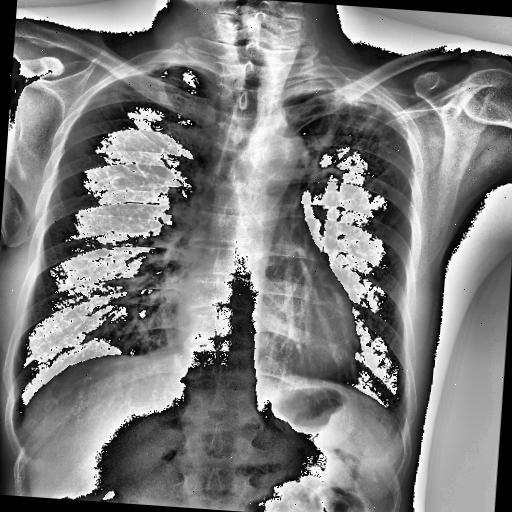11- Pleural thickening: (279, 72, 394, 110), (105, 58, 157, 84), (108, 56, 173, 76)
13- Pulmonary fibrosis: (292, 92, 398, 184), (298, 79, 406, 160), (304, 90, 408, 157), (92, 88, 120, 104)
